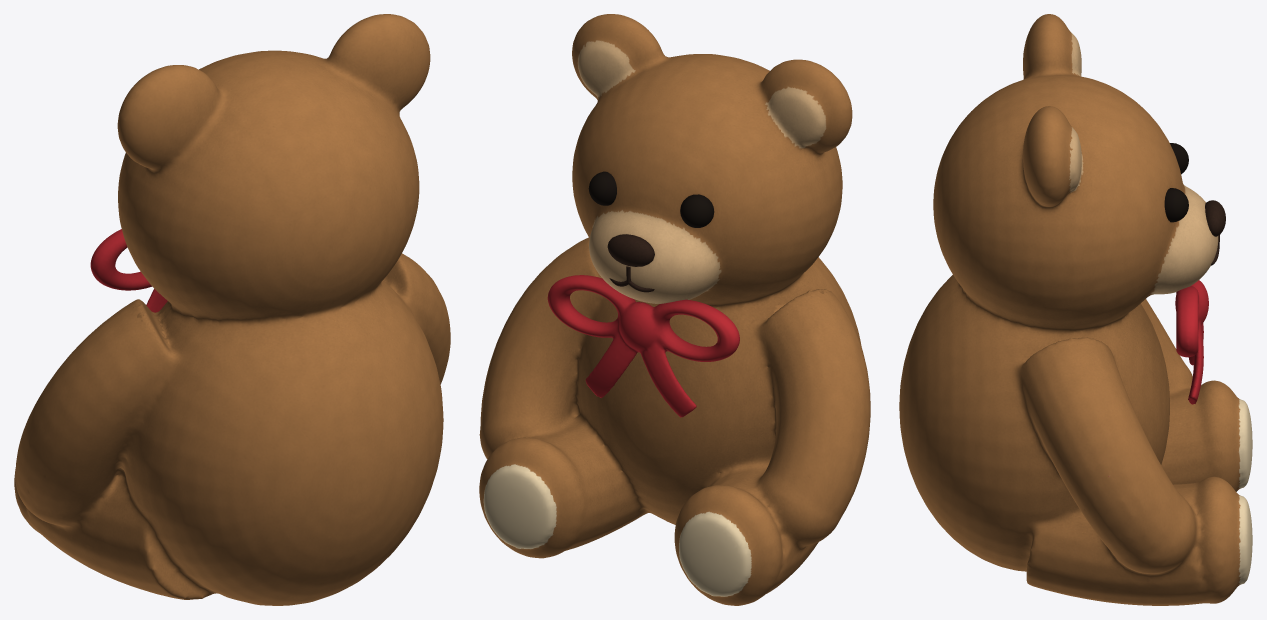
File: piece_teddy.fbx
3 views of the same model, side by side, from view 1: azimuth 30°, elevation 25°; view 2: azimuth 150°, elevation 25°; view 3: azimuth 270°, elevation 25° (orthographic). The views are drawn at different scales.
Parts seen in each view (by area): view 1: piece_teddy; view 2: piece_teddy; view 3: piece_teddy.
Part boxes in pixels (x1,y1,x2,y2): piece_teddy: (14, 14, 450, 605); piece_teddy: (479, 14, 870, 605); piece_teddy: (899, 14, 1252, 605).
Bounding box in the file's own units: 0.1764 × 0.2254 × 0.1458.
